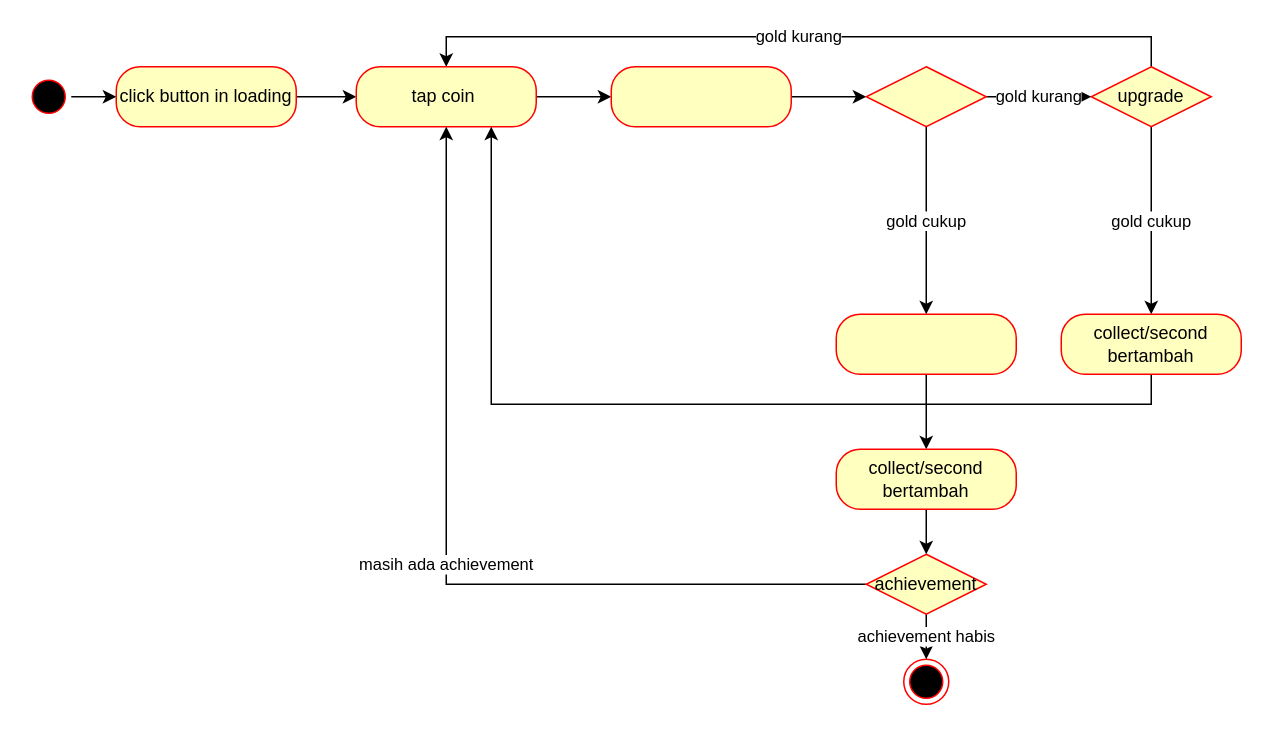
The diagram is 1268 pixels wide and 731 high, and some of its shapes have lost their labels. The centre of each missing label's shape, as x and y in pixels:
membuka achievement baru: (x=925, y=343)
total gold: (x=700, y=96)
unlock: (x=925, y=96)
